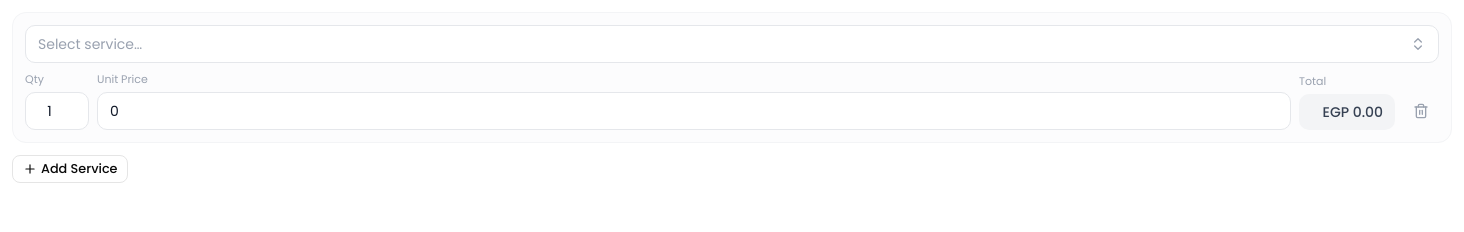
InvoiceLineItemsEditor › fills the row unit price from the resolved price after selecting a service
The image size is (1464, 232).
Click the button "Select service…".
click(90, 44)  # box [25,25,1439,63]
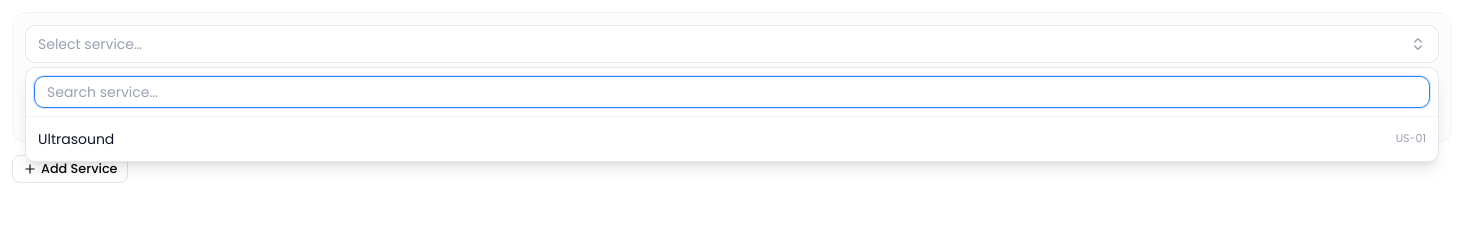
Press the mouse on the button "Ultrasound US-01" at [76, 139], box [26,121,1438,157]
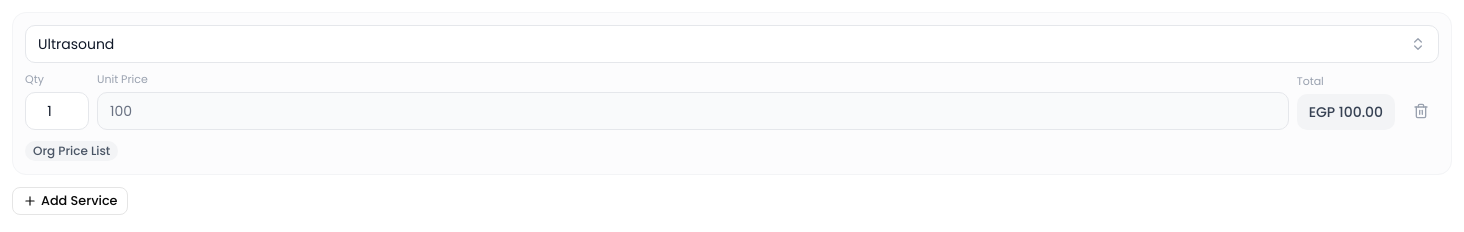
Result: the number field labelled "Unit Price" holds "100" at [97,92,1289,130]
